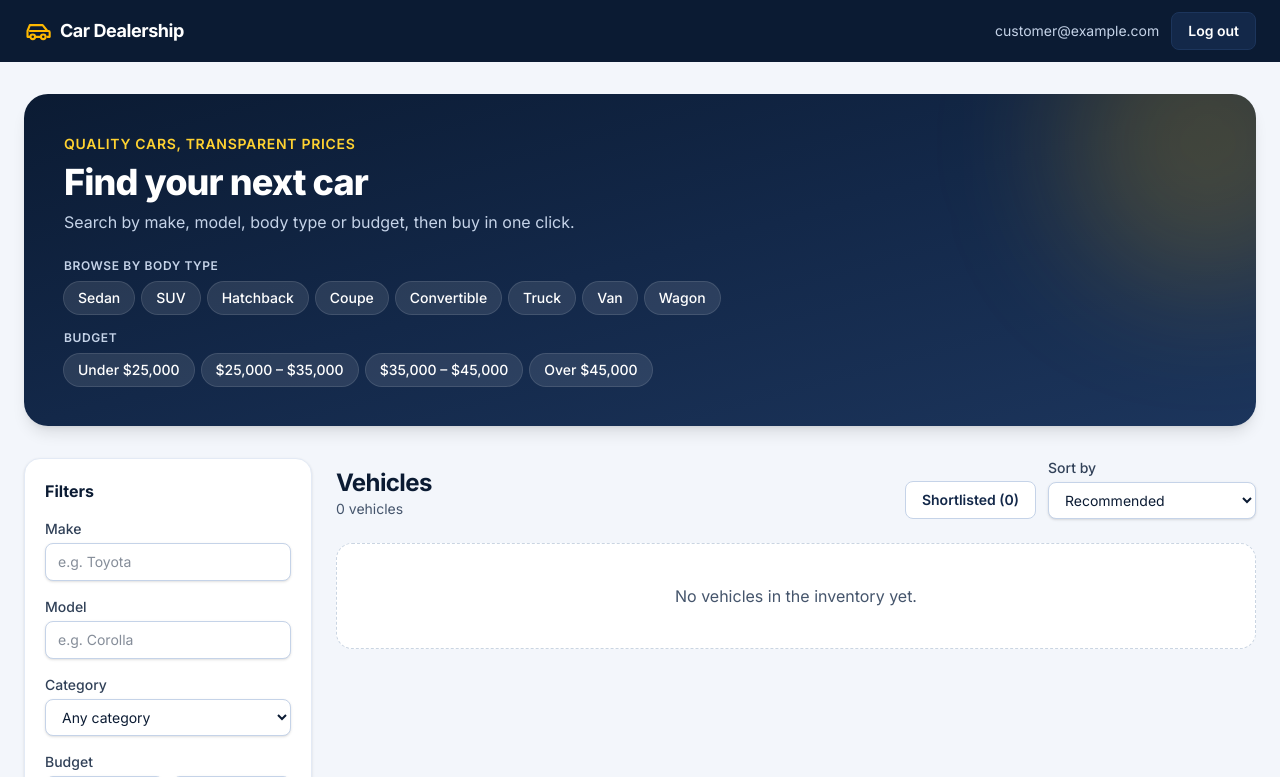
Scenario: app header › logs out and returns to the login page
Click the button "Log out" at (1214, 31), box [1171,12,1256,50]
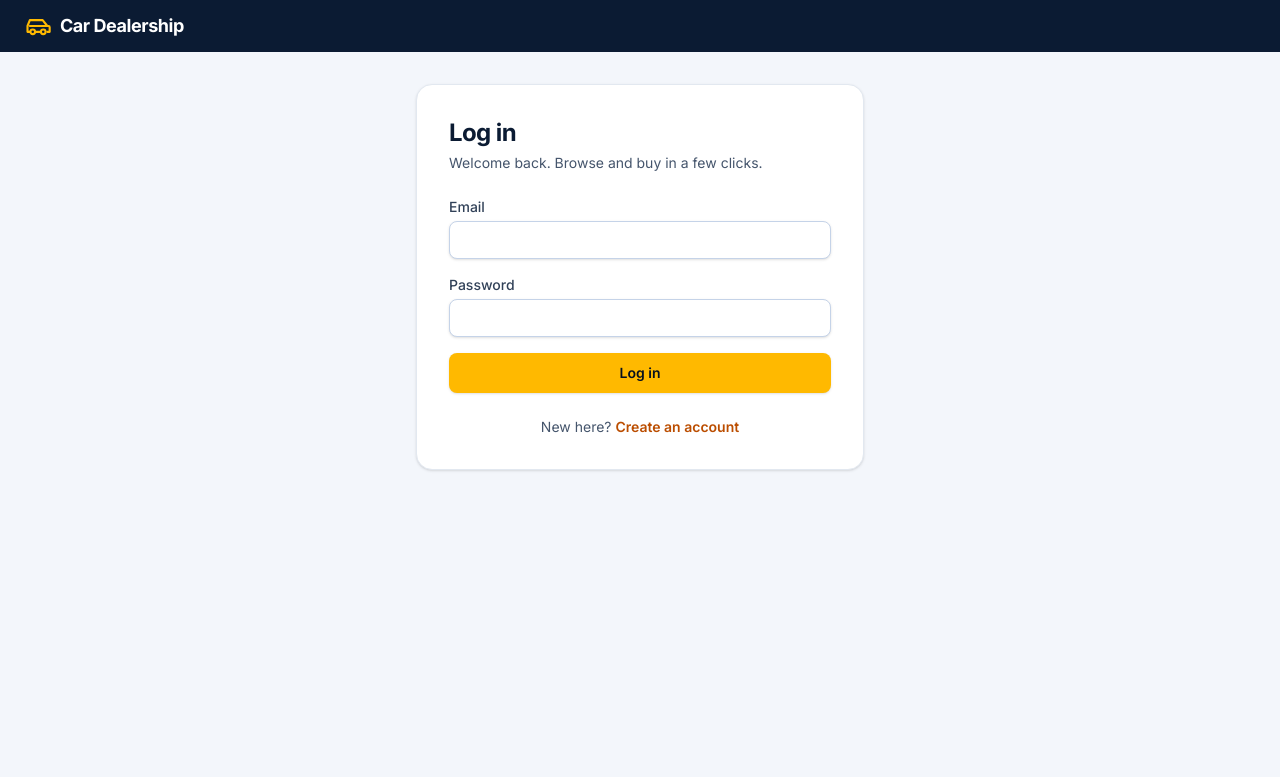
Result: the heading "Log in" is shown at [449,118,516,147]
Result: the text "customer@example.com" is gone
